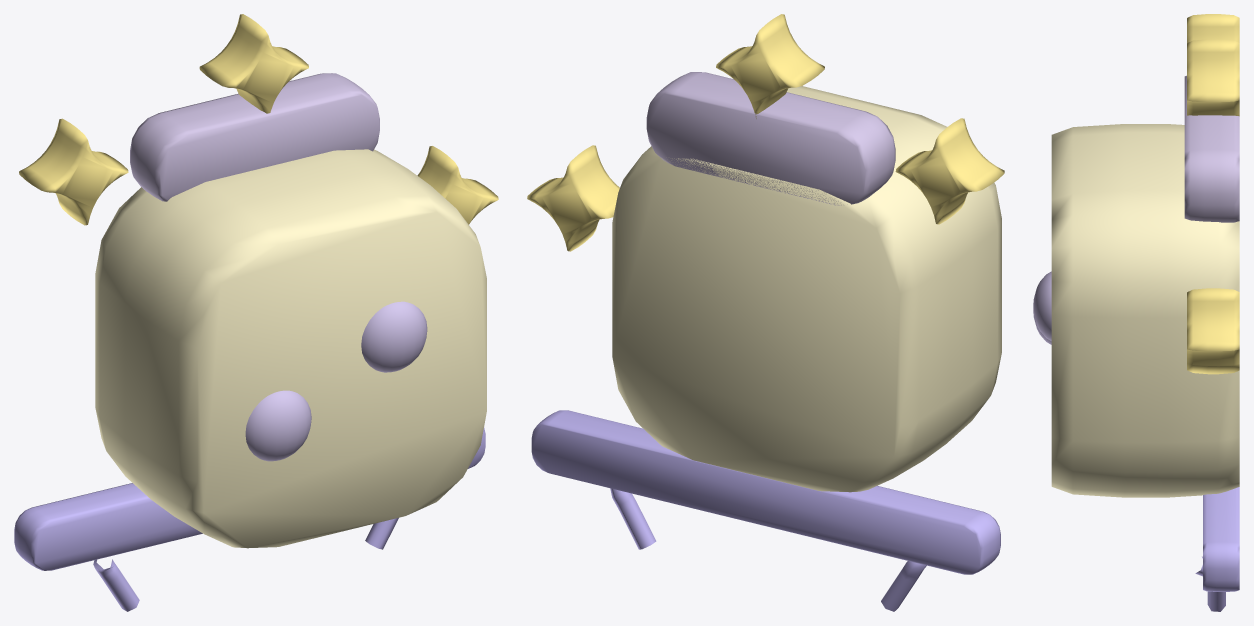
Rendered from decor_6_star.glb.
3 views of the same model, side by side, from view 1: azimuth 30°, elevation 25°; view 2: azimuth 150°, elevation 25°; view 3: azimuth 270°, elevation 25° (orthographic). The views are drawn at different scales.
Parts seen in each view (by area): view 1: decor_6_star; view 2: decor_6_star; view 3: decor_6_star.
Part boxes in pixels (x1,y1,x2,y2): decor_6_star: (14, 14, 498, 611); decor_6_star: (527, 14, 1004, 611); decor_6_star: (1033, 14, 1239, 611).
Size of the model in its own units: 7.98 by 9.24 by 3.36.
